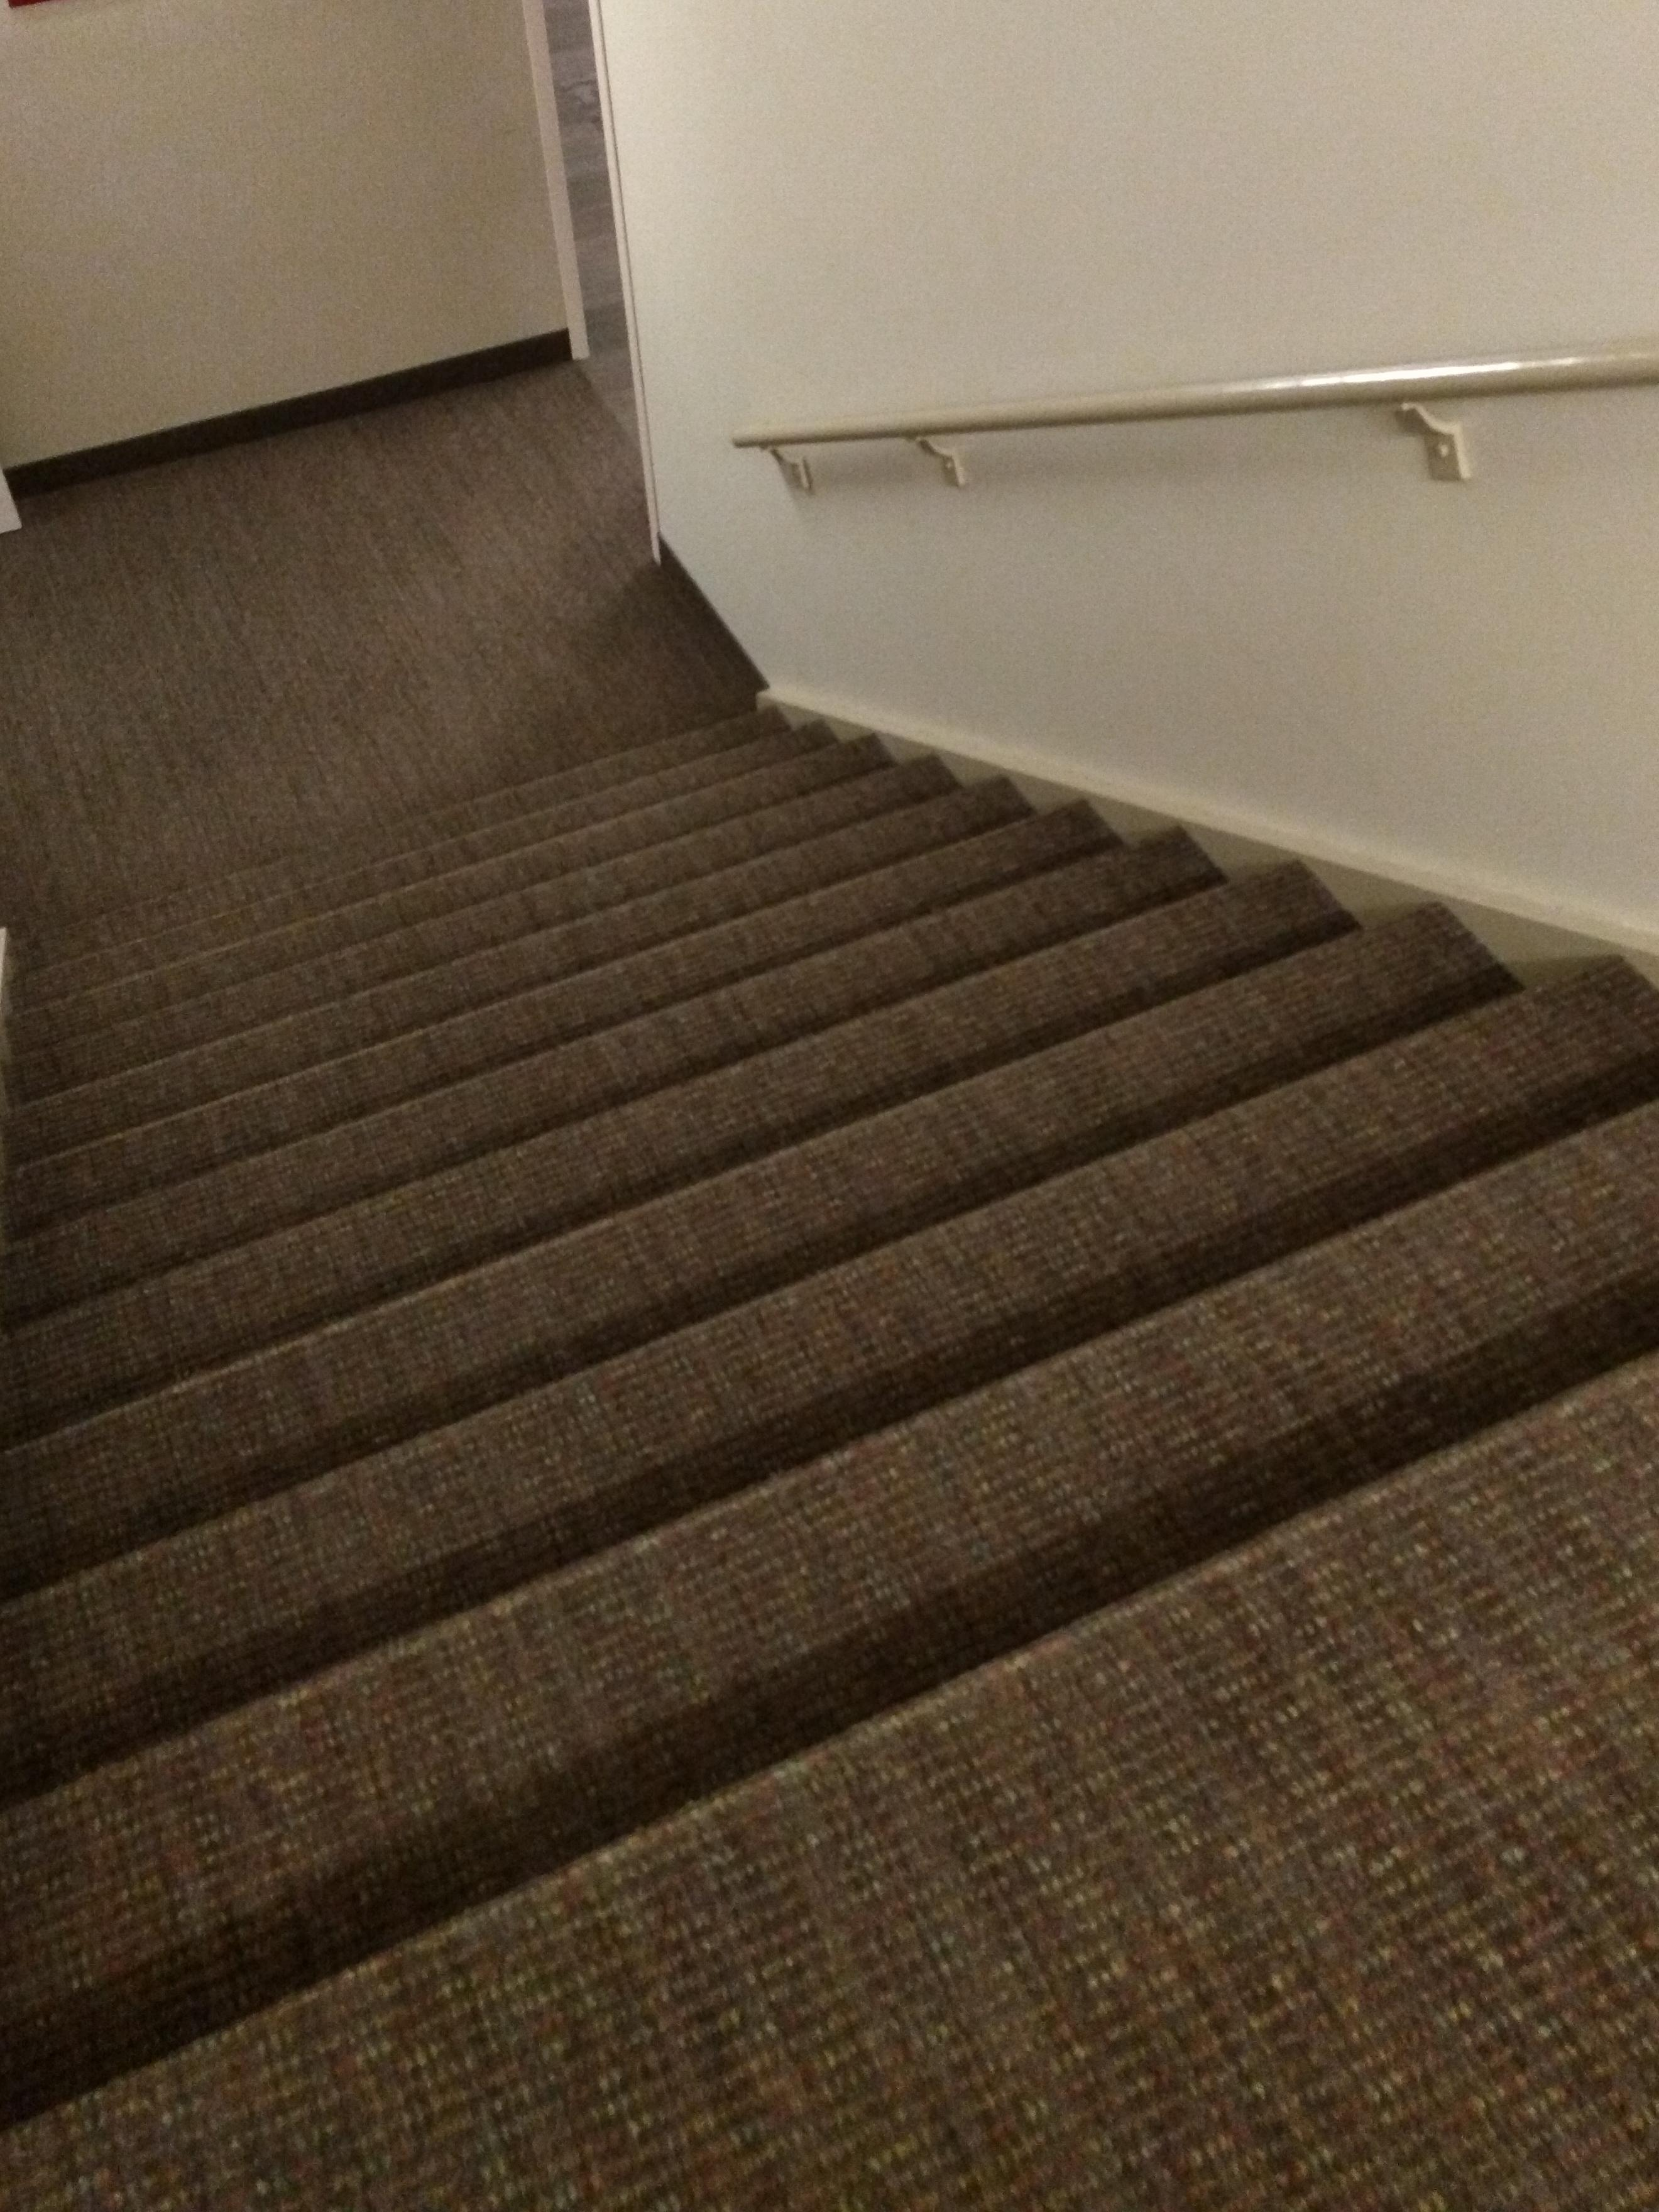stairs_down: (17, 685, 1659, 2144)
